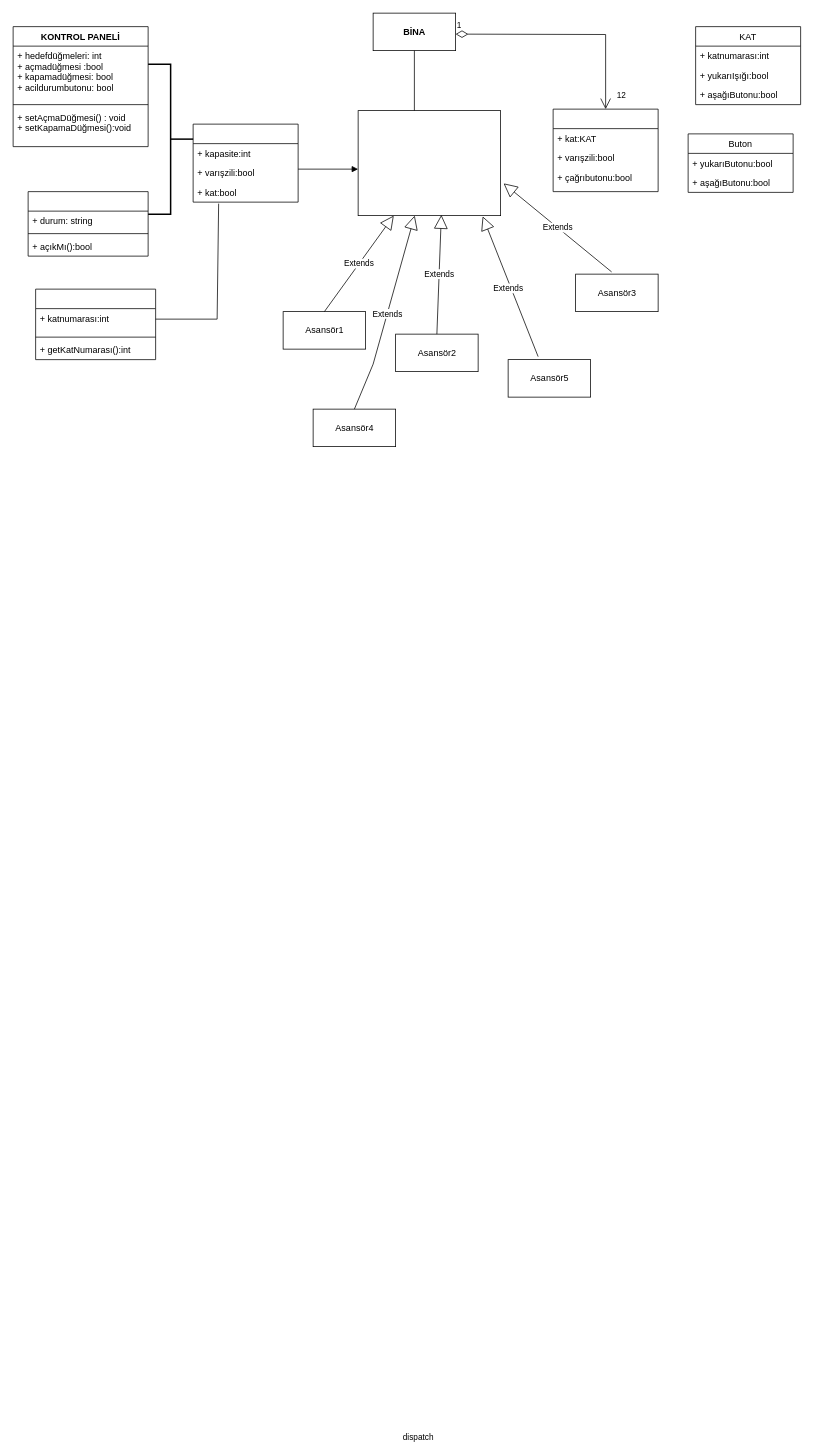
Some shapes in this 814 by 1455 pixel diagram are drawn without their labels. Here are the shapes that lost their labels. From the top down, the box of each, then its label:
(192, 123, 298, 202): ASANSÖR
(357, 110, 501, 216): <<Abstract>> ASANSÖRLER asansör:ASANSÖR + çağırdıMı():bool + getHedefKat:int
(552, 108, 658, 192): KATLAR
(27, 191, 148, 256): KAPI
(35, 288, 156, 360): Gösterge Işığı
